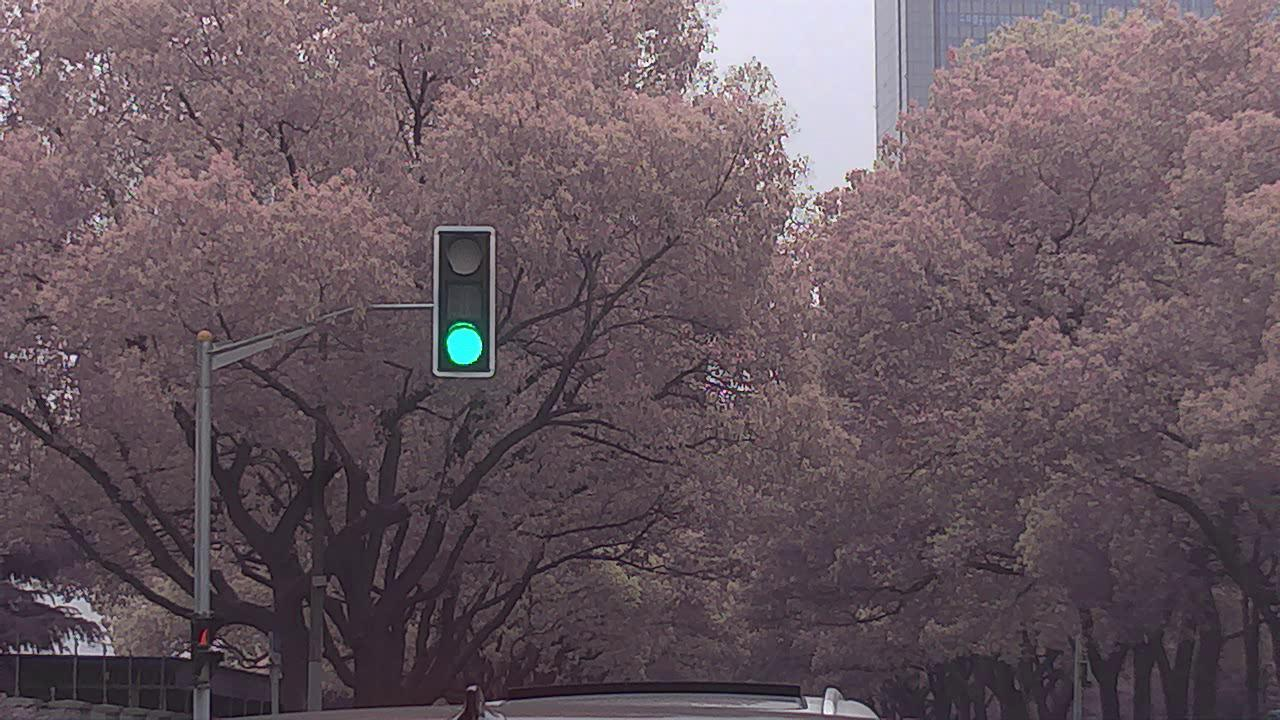traffic_light: (436, 229, 486, 378)
